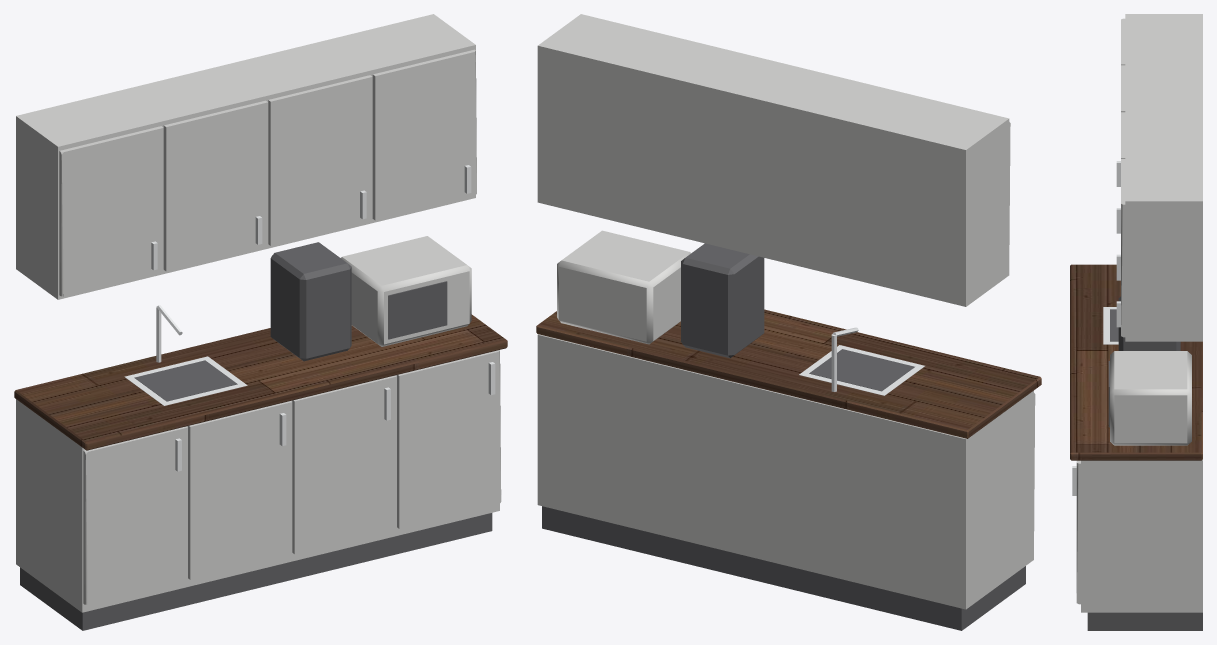
Rendered from kitchenette.glb.
3 views of the same model, side by side, from view 1: azimuth 30°, elevation 25°; view 2: azimuth 150°, elevation 25°; view 3: azimuth 270°, elevation 25° (orthographic). The views are drawn at different scales.
Visible parts, largest first — view 1: kitchenette_paint_w, kitchenette_dkwood, kitchenette_dark, kitchenette_chrome; view 2: kitchenette_paint_w, kitchenette_dkwood, kitchenette_dark, kitchenette_chrome; view 3: kitchenette_paint_w, kitchenette_dkwood, kitchenette_dark, kitchenette_chrome.
Boxes of the visible parts, x1,y1,x2,y2 form: kitchenette_paint_w: [16, 14, 501, 612]; kitchenette_dkwood: [14, 314, 507, 450]; kitchenette_dark: [20, 242, 492, 630]; kitchenette_chrome: [124, 165, 495, 471]; kitchenette_paint_w: [537, 14, 1035, 609]; kitchenette_dkwood: [536, 309, 1041, 438]; kitchenette_dark: [542, 243, 1025, 630]; kitchenette_chrome: [799, 327, 924, 395]; kitchenette_paint_w: [1076, 14, 1202, 612]; kitchenette_dkwood: [1070, 264, 1202, 460]; kitchenette_dark: [1087, 296, 1202, 630]; kitchenette_chrome: [1072, 161, 1120, 495].
Bounding box in the file's own units: 2.02 × 2.15 × 0.6.
5 materials, 1 textured.
